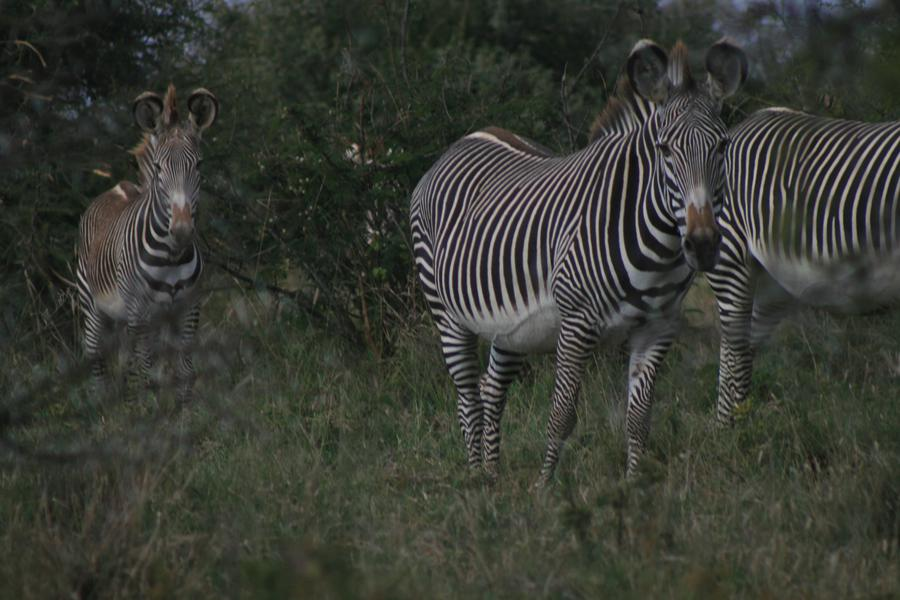zebra_grevys: (412, 111, 632, 321)
